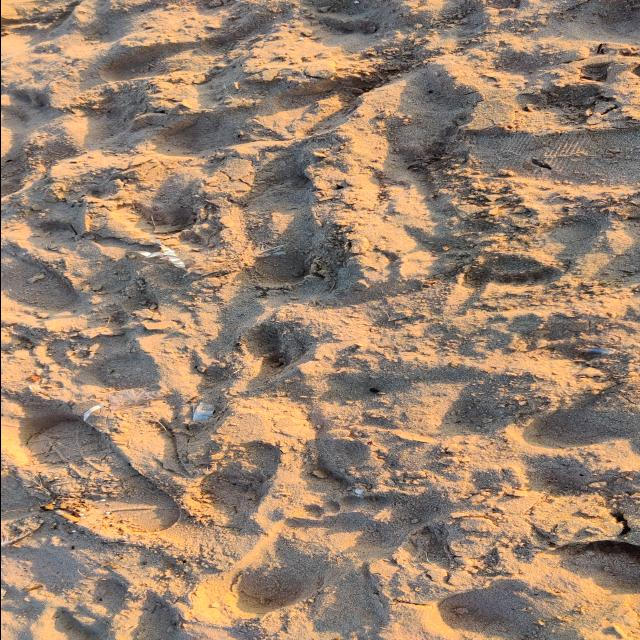Plastic film: (127, 237, 208, 274), (83, 387, 170, 421)
Unlabeled litter: (192, 403, 212, 421)
